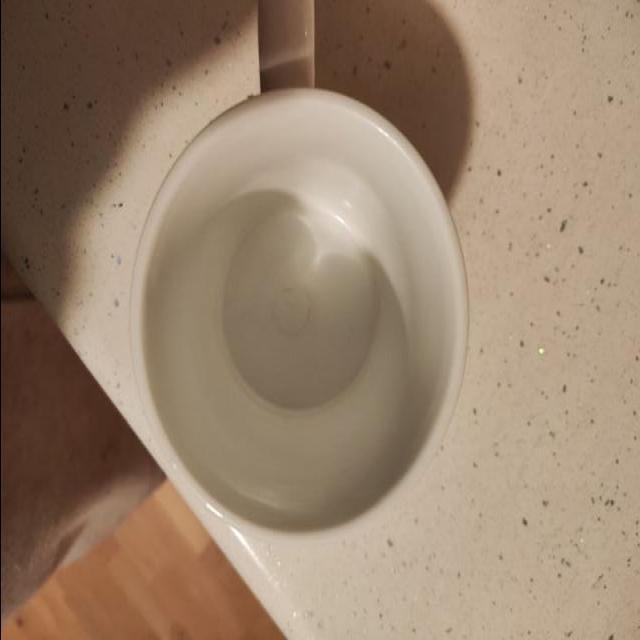Circle: (121, 86, 478, 540)
